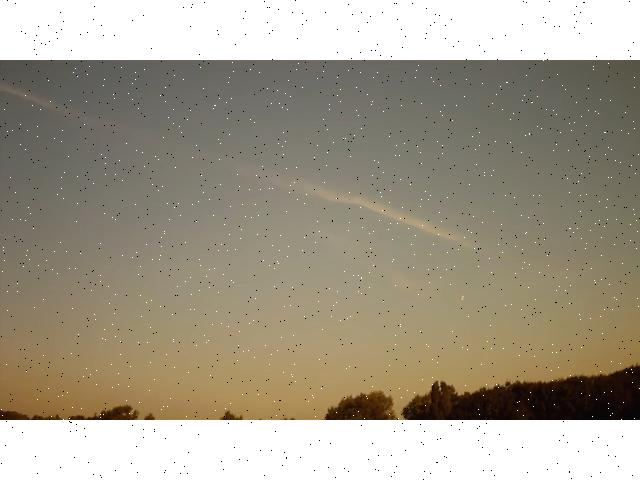Anti-Drone: (454, 289, 472, 304)
